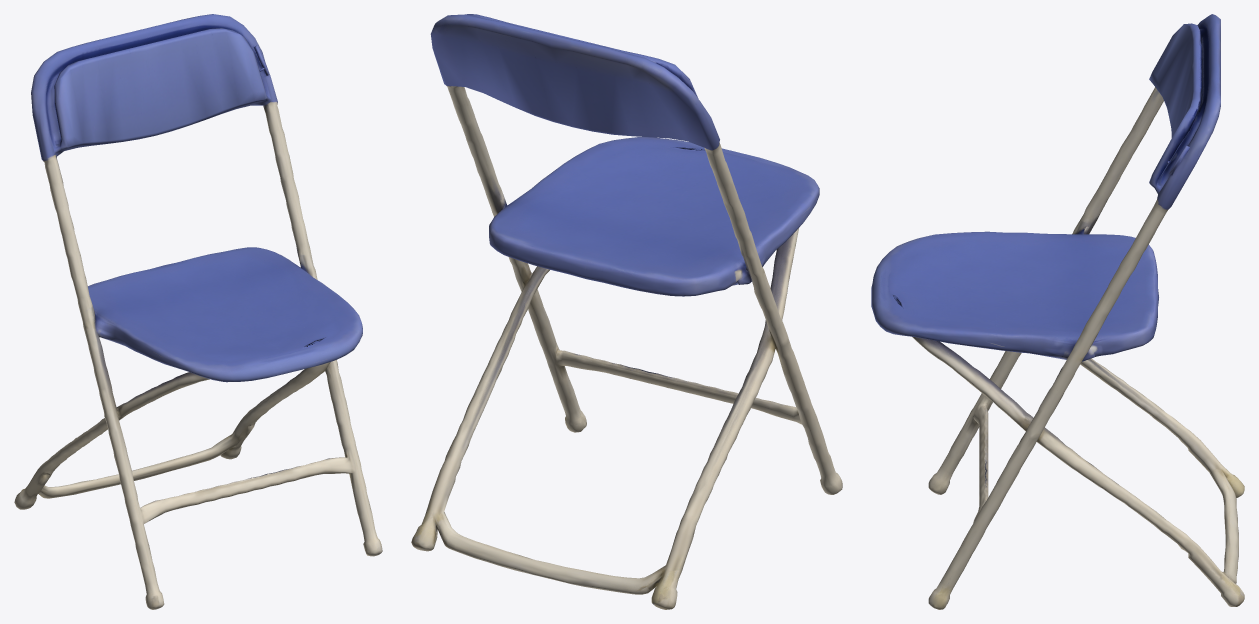
Rendered from Chair_Folding_Medium_0320031923_texture.glb.
3 views of the same model, side by side, from view 1: azimuth 30°, elevation 25°; view 2: azimuth 150°, elevation 25°; view 3: azimuth 270°, elevation 25° (orthographic). The views are drawn at different scales.
Visible parts, largest first — view 1: Mesh_0.002; view 2: Mesh_0.002; view 3: Mesh_0.002.
Boxes of the visible parts, x1=… form: Mesh_0.002: x1=14, y1=14, x2=382, y2=609; Mesh_0.002: x1=411, y1=14, x2=842, y2=609; Mesh_0.002: x1=871, y1=14, x2=1244, y2=609.
Bounding box in the file's own units: 0.4901 × 0.9144 × 0.6234.
1 material, 1 textured.
